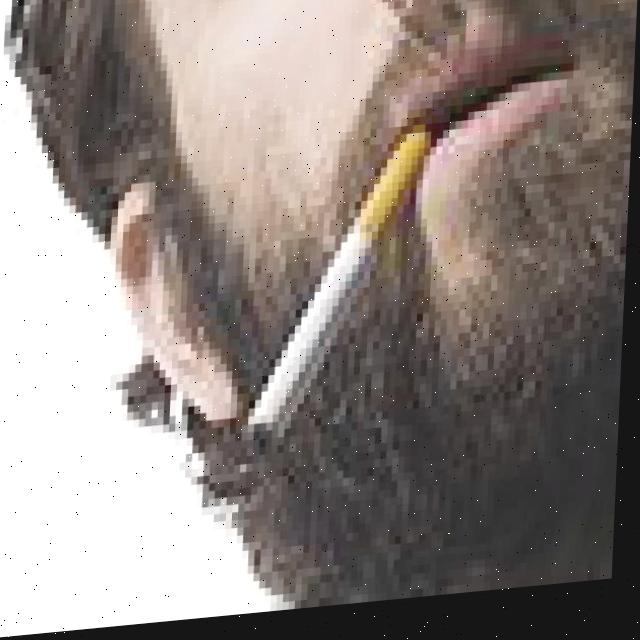cigarette: (248, 134, 438, 456)
